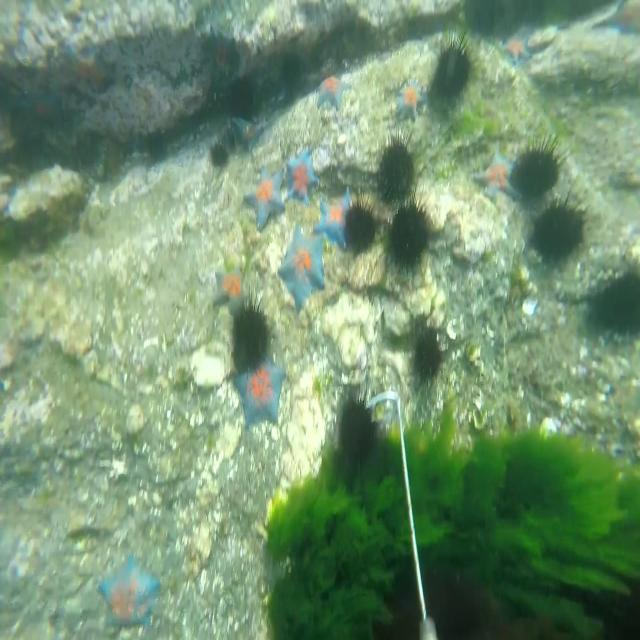echinus: (589, 252, 640, 351), (530, 186, 590, 268), (386, 180, 432, 274), (375, 118, 418, 210), (335, 386, 380, 473), (516, 130, 570, 201), (233, 284, 273, 377), (432, 26, 476, 106), (411, 319, 448, 393), (342, 185, 378, 252), (226, 74, 259, 125), (279, 47, 305, 98), (145, 127, 169, 163), (208, 137, 232, 170)
starfish: (95, 552, 163, 633), (276, 220, 327, 316), (231, 348, 289, 431), (310, 184, 360, 255), (240, 160, 286, 234), (60, 39, 117, 93), (471, 146, 523, 204), (210, 259, 251, 319), (284, 146, 322, 207), (199, 21, 237, 69), (395, 73, 426, 121), (314, 75, 352, 113), (232, 112, 264, 152), (498, 33, 534, 68)
